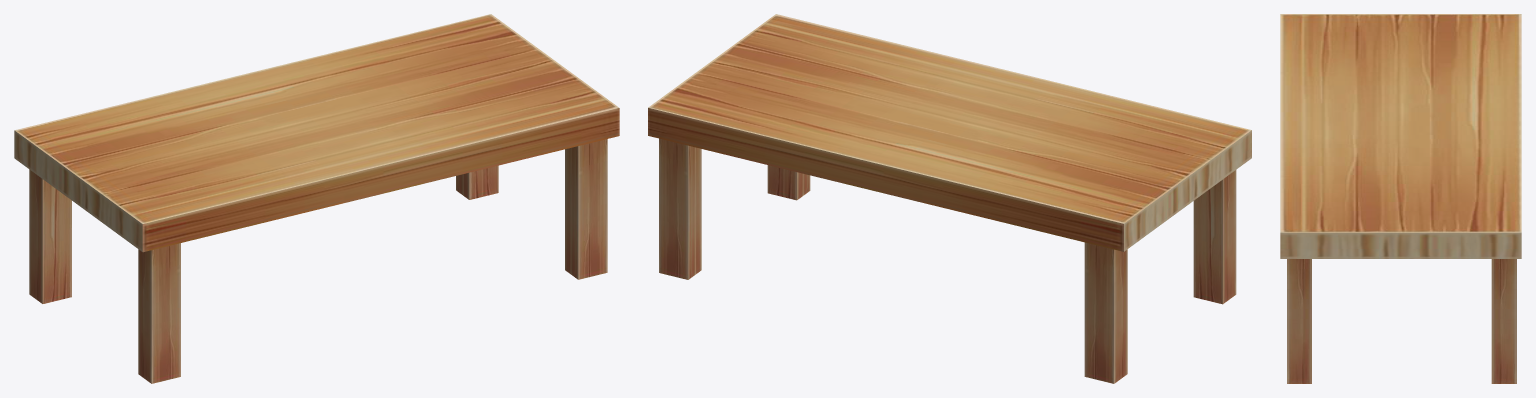
The model's file is SE_Table_02a_SM.FBX.
3 views of the same model, side by side, from view 1: azimuth 30°, elevation 25°; view 2: azimuth 150°, elevation 25°; view 3: azimuth 270°, elevation 25° (orthographic). The views are drawn at different scales.
Parts seen in each view (by area): view 1: SE_Table_02a_SM_LOD0; view 2: SE_Table_02a_SM_LOD0; view 3: SE_Table_02a_SM_LOD0.
Boxes of the visible parts, bbox=[...] form: SE_Table_02a_SM_LOD0: bbox=[14, 14, 619, 383]; SE_Table_02a_SM_LOD0: bbox=[648, 14, 1251, 383]; SE_Table_02a_SM_LOD0: bbox=[1280, 14, 1521, 383].
Size of what is drawn, in the model's own units: 430 by 200 by 142.
